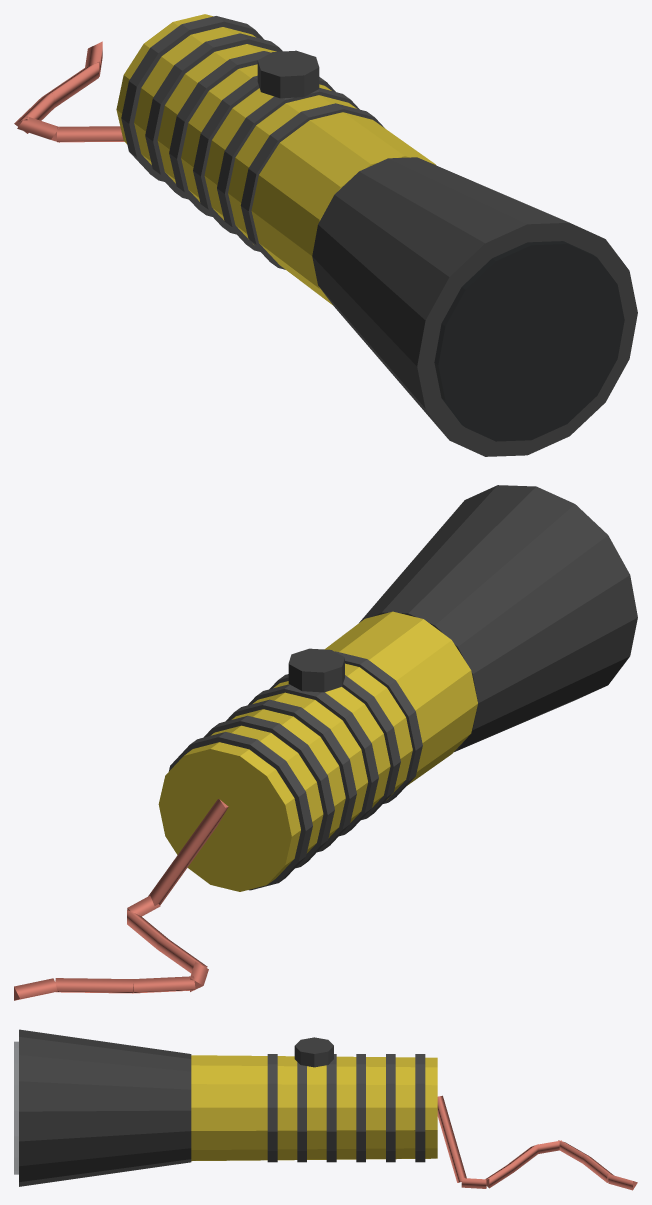
The model's file is wren_torch_a_off.glb.
3 views of the same model, one above another, from view 1: azimuth 30°, elevation 25°; view 2: azimuth 150°, elevation 25°; view 3: azimuth 270°, elevation 25° (orthographic). The views are drawn at different scales.
Parts seen in each view (by area): view 1: body; view 2: body; view 3: body.
Part boxes in pixels (x1,y1,x2,y2): body: [14, 14, 637, 456]; body: [14, 485, 637, 1000]; body: [14, 1029, 637, 1190].
Size of the model in its own units: 0.064 by 0.064 by 0.2534.
